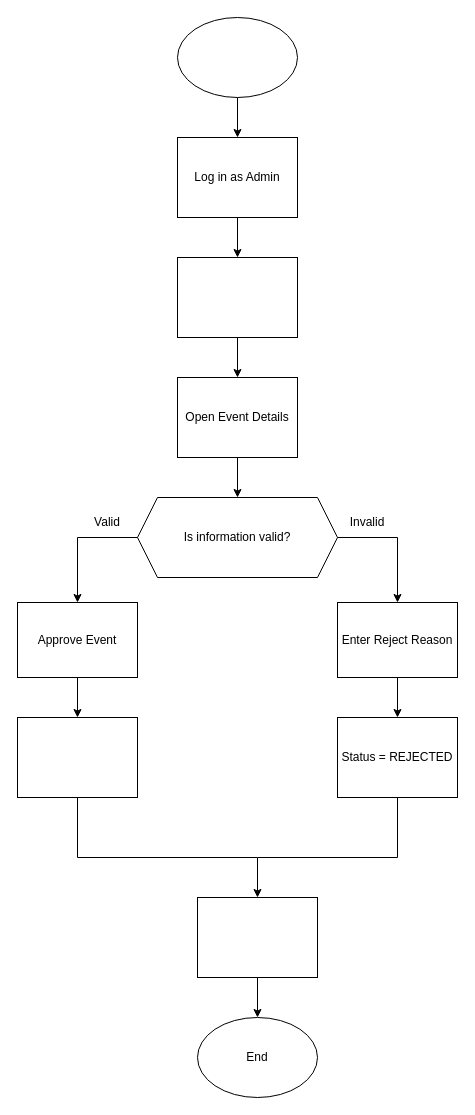
The diagram is 475 pixels wide and 1115 high, and some of its shapes have lost their labels. Each missing label, with the centre of its shape:
"Notify Seller" goes at [257,937].
"Start" goes at [237,57].
"Status = UPCOMING" goes at [77,757].
"View Pending Requests" goes at [237,297].
